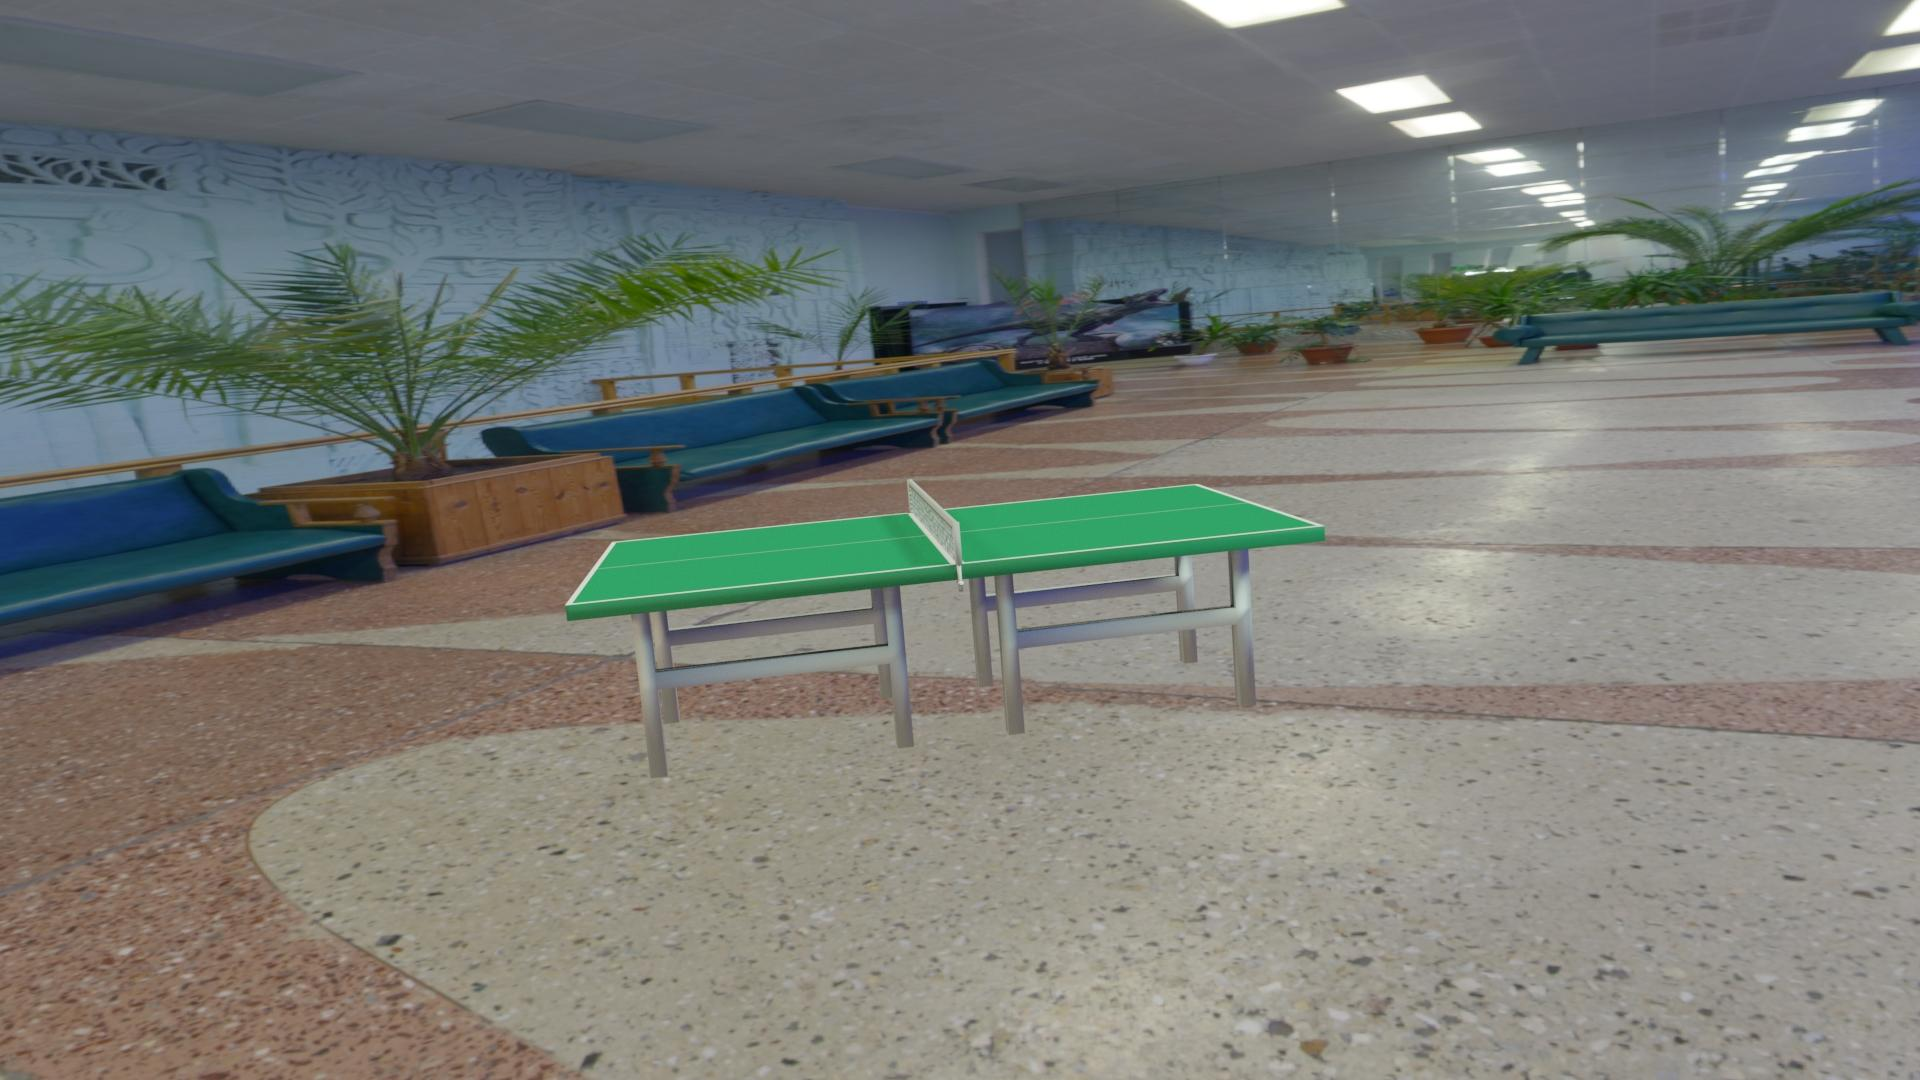table: (572, 485, 1317, 604)
